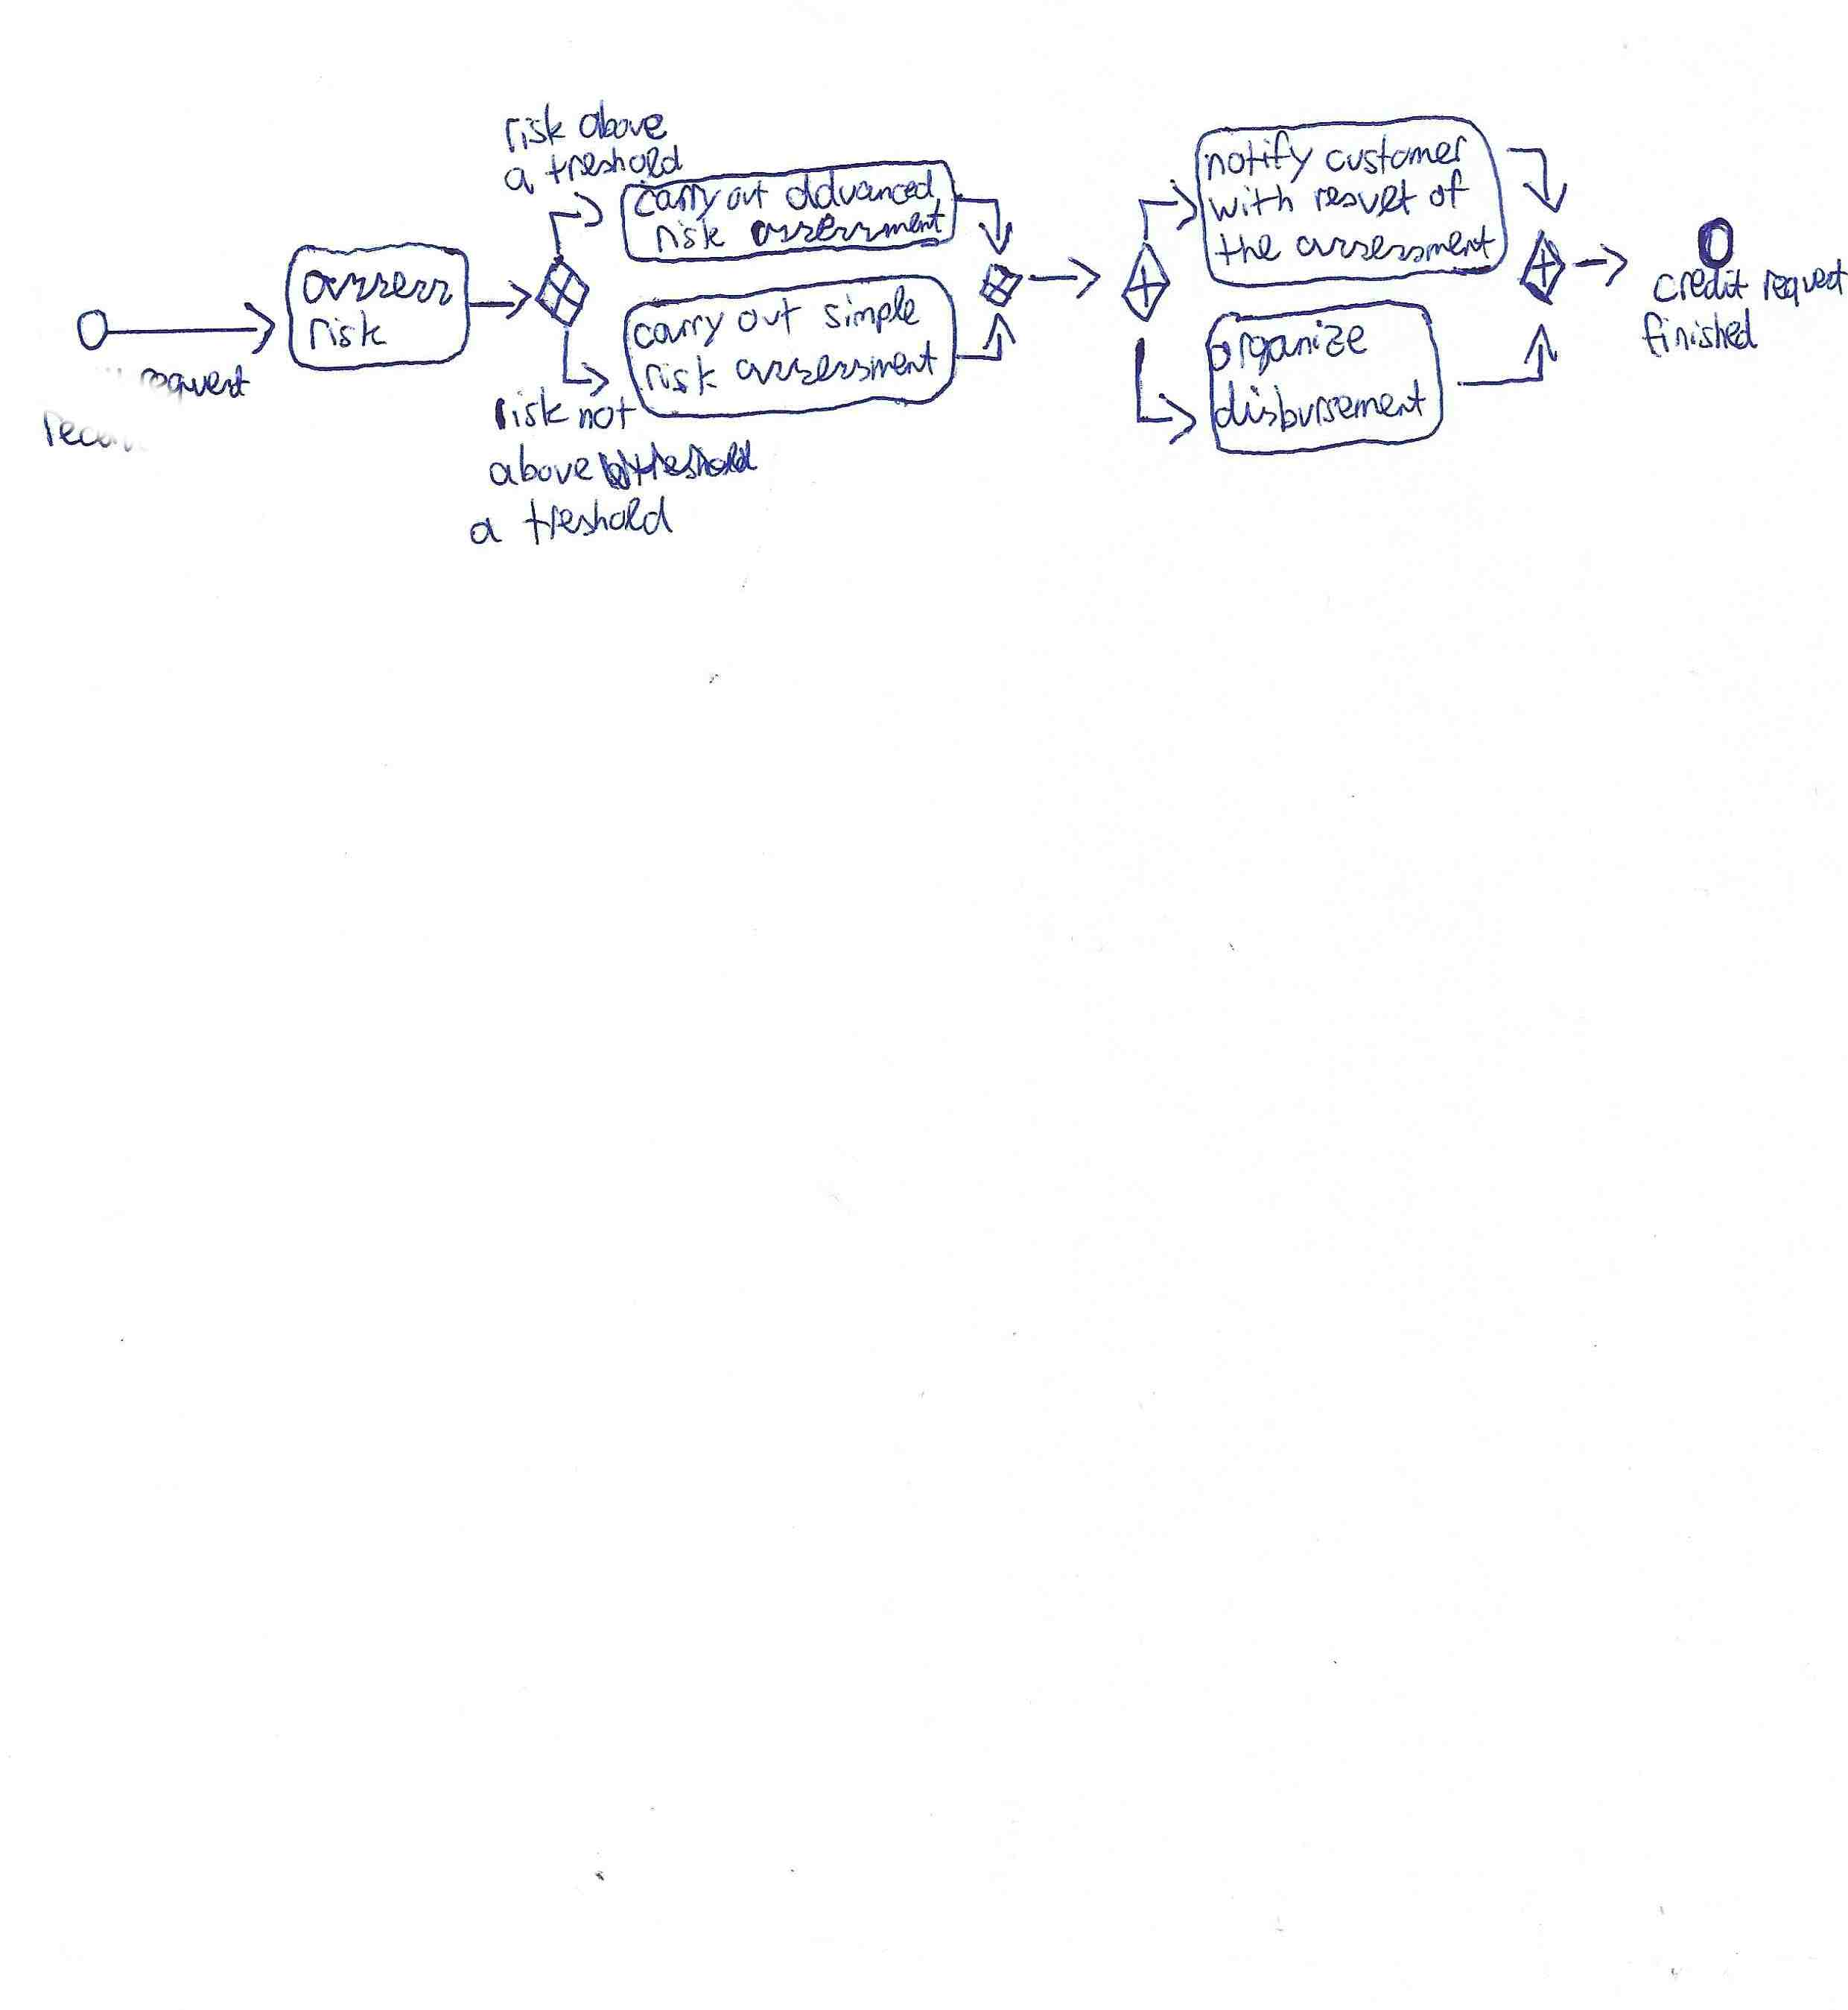a: (464, 508, 506, 553), (500, 163, 537, 200)
above: (486, 439, 597, 490), (574, 95, 670, 144)
advanced: (780, 165, 938, 215)
assess: (297, 263, 457, 312)
assessment: (745, 194, 950, 250), (732, 336, 943, 389), (1292, 222, 1500, 266)
carry: (630, 180, 724, 226), (630, 308, 728, 352)
credit: (1649, 263, 1753, 308)
customer: (1323, 131, 1472, 179)
disbursement: (1211, 375, 1430, 438)
finished: (1638, 303, 1761, 361)
not: (574, 392, 640, 432)
notify: (1202, 128, 1318, 187)
of: (1425, 166, 1475, 214)
organize: (1204, 315, 1372, 380)
out: (735, 294, 805, 340), (721, 177, 772, 215)
received: (35, 404, 185, 457)
request: (135, 357, 256, 413), (1761, 256, 1848, 312)
result: (1307, 175, 1423, 221)
risk: (304, 306, 392, 355), (490, 383, 572, 434), (499, 100, 570, 158), (640, 352, 721, 399), (651, 214, 728, 256)
simple: (819, 280, 924, 340)
the: (1211, 229, 1286, 270)
treshold: (518, 490, 677, 552), (543, 142, 686, 189)
with: (1204, 180, 1298, 226)
